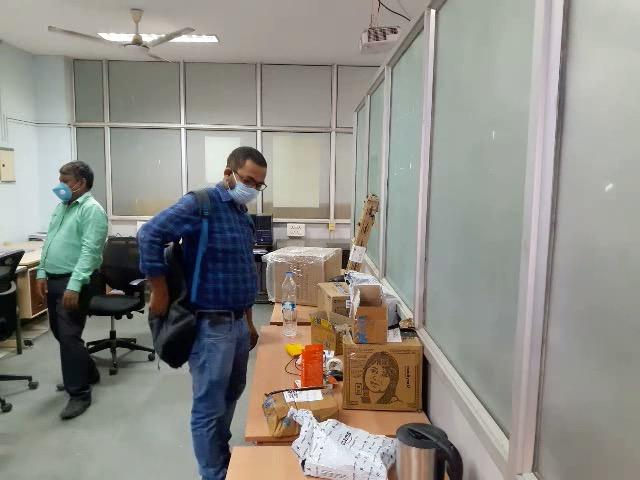shoplifting: (99, 228, 218, 378)
